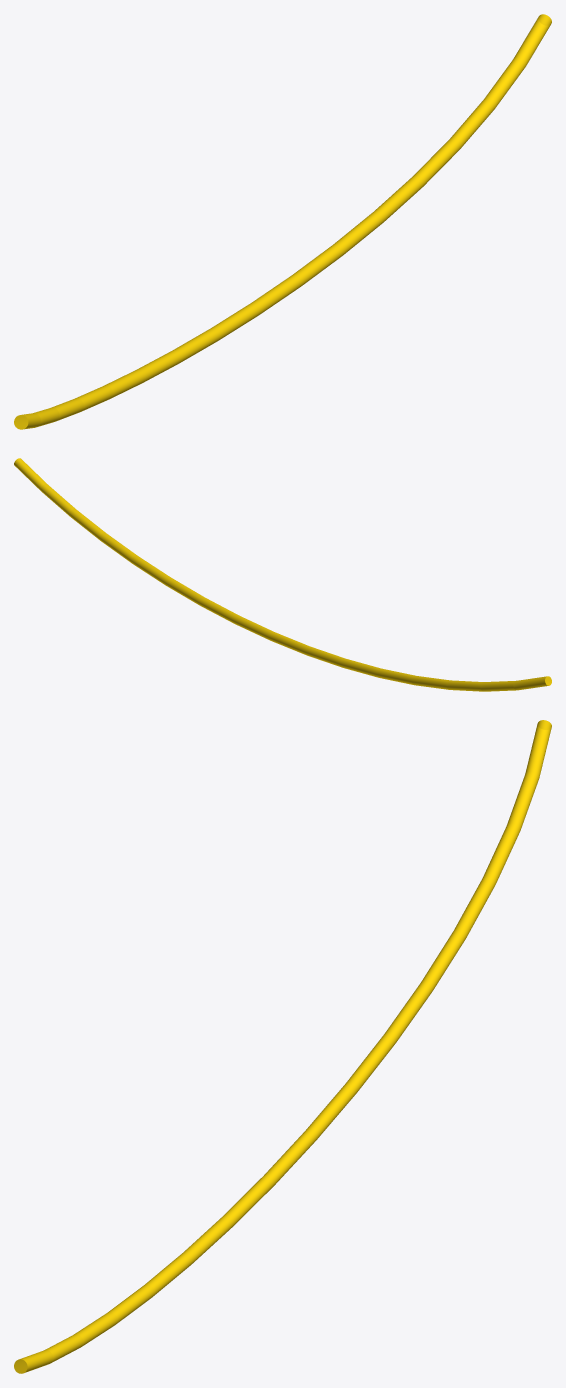
Rendered from Event_420107950_track_37.fbx.
3 renders of one model, top to bottom at view 1: azimuth 90°, elevation 25°; view 2: azimuth 150°, elevation 25°; view 3: azimuth 270°, elevation 25°, orthographic. The views are drawn at different scales.
Visible parts, largest first — view 1: Model; view 2: Model; view 3: Model.
Boxes of the visible parts, bbox=[...] form: Model: bbox=[14, 14, 551, 429]; Model: bbox=[14, 458, 551, 691]; Model: bbox=[14, 720, 551, 1373].
Size of the model in its own units: 3.37 by 0.5307 by 1.46.
